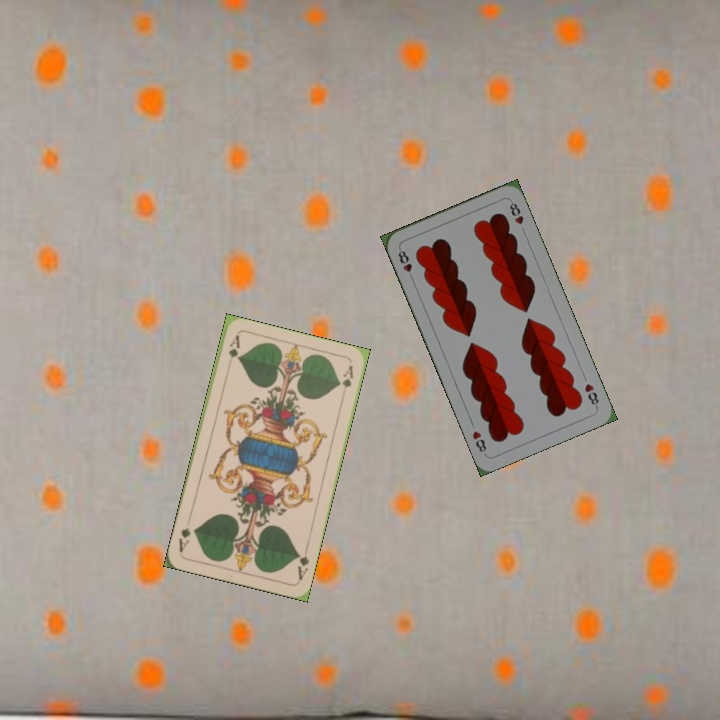GA: (223, 331, 242, 371), (293, 543, 311, 582)
H8: (394, 244, 416, 283), (580, 379, 601, 410)
